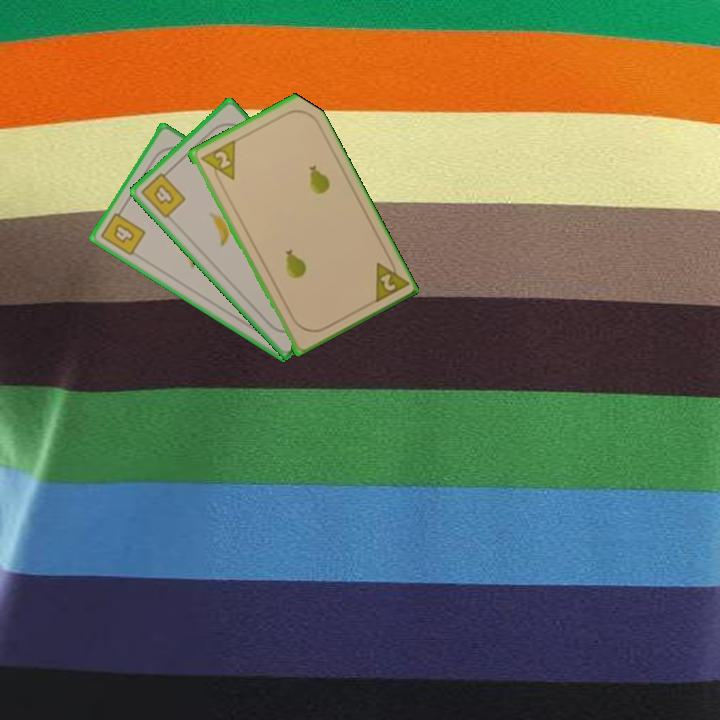2p: (369, 252, 410, 306), (197, 137, 238, 188)
4b: (97, 204, 148, 259), (137, 166, 188, 221)
